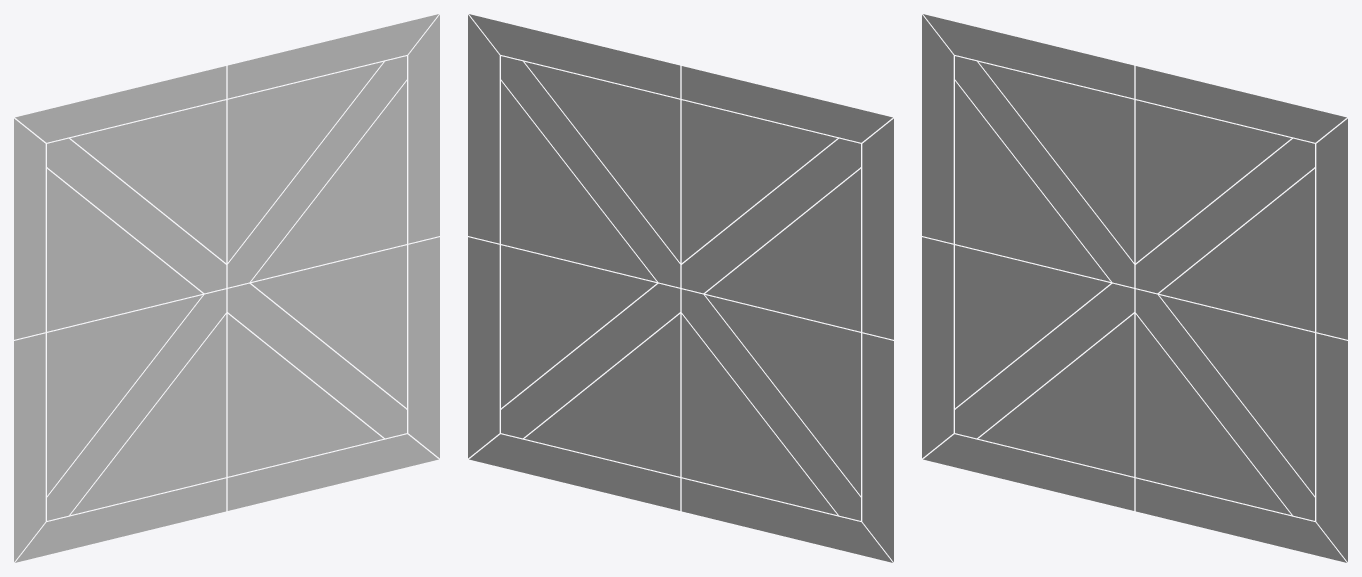
3 renders of one model, left to right at view 1: azimuth 30°, elevation 25°; view 2: azimuth 150°, elevation 25°; view 3: azimuth 330°, elevation 25°, orthographic.
Visible parts, largest first — view 1: po022; view 2: po022; view 3: po022.
Boxes of the visible parts, x1,y1,x2,y2 form: po022: [14, 14, 439, 562]; po022: [468, 14, 893, 562]; po022: [922, 14, 1347, 562].
Size of the model in its own units: 0.6096 by 0.6096 by 0.
20 materials, 20 textured.
